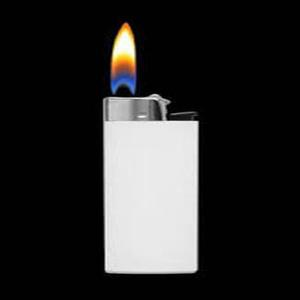fire: (109, 20, 139, 94)
